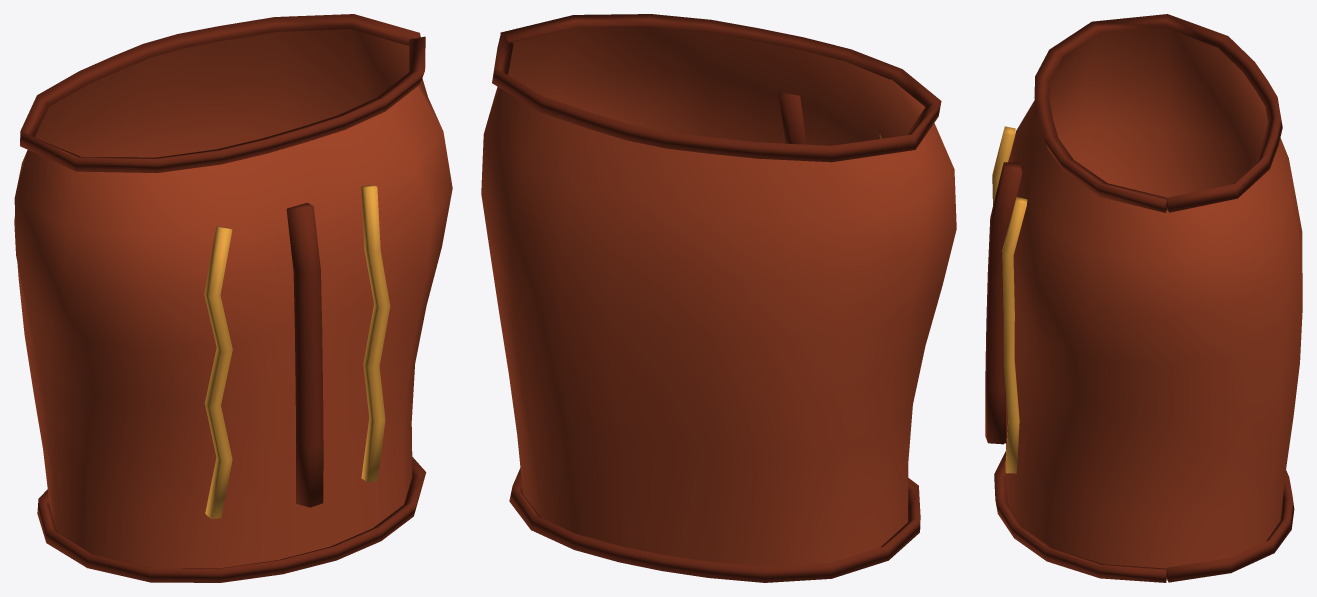
The model's file is meteor_armor_chest.glb.
3 views of the same model, side by side, from view 1: azimuth 30°, elevation 25°; view 2: azimuth 150°, elevation 25°; view 3: azimuth 270°, elevation 25° (orthographic). The views are drawn at different scales.
Parts seen in each view (by area): view 1: meteor_armor_chest; view 2: meteor_armor_chest; view 3: meteor_armor_chest.
Boxes of the visible parts, bbox=[...] form: meteor_armor_chest: bbox=[14, 14, 452, 582]; meteor_armor_chest: bbox=[481, 14, 956, 582]; meteor_armor_chest: bbox=[985, 14, 1302, 582].
Size of the model in its own units: 0.3976 by 0.3857 by 0.2799.
